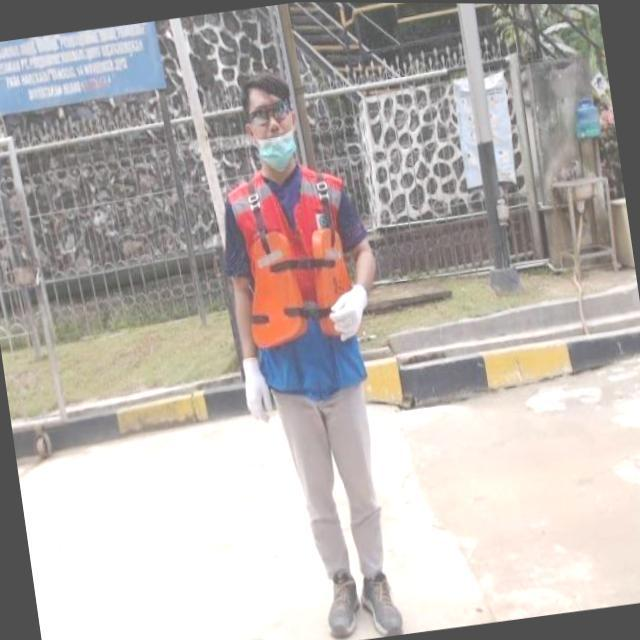goggles_on: (247, 97, 296, 127)
